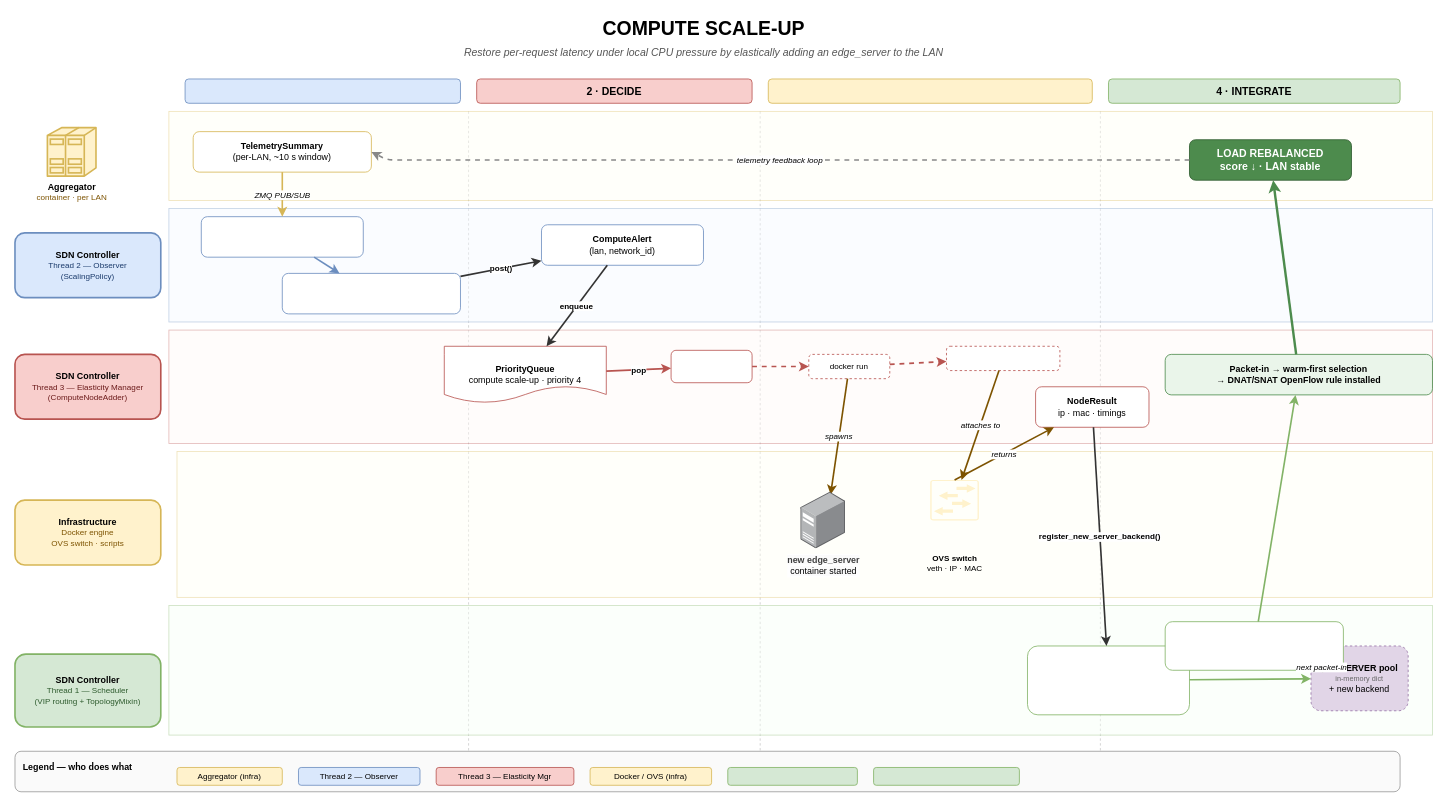
Image size: 1447x806. Some labels were removed from this diagram. The shapes that lost their labels are listed below. From the top down, each one's centre as x and y in pixels, then its label:
point 322,90: 1 · DETECT
point 929,90: 3 · PROVISION
point 281,236: Degradation score weighted: CPU + latency
point 370,293: Breach sustained 3-of-5 sliding window vs adaptive threshold
point 711,366: Dispatch → ComputeNodeAdder
point 1003,358: add_network_node.sh
point 954,500: OVS switch veth + port attached
point 1253,645: Warm lease claim newest claimable → backend no lease → WSM fallback
point 1108,680: VipRoutingMixin → VIP pool → IP/MAC seed → warm lease (45 s)
point 792,776: Thread 1 — Scheduler
point 946,776: Warm lease (bounded, 45 s)
